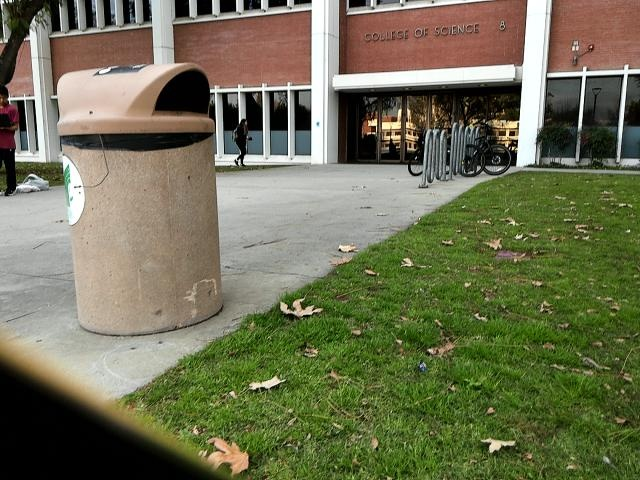trashcan: (47, 49, 228, 340)
